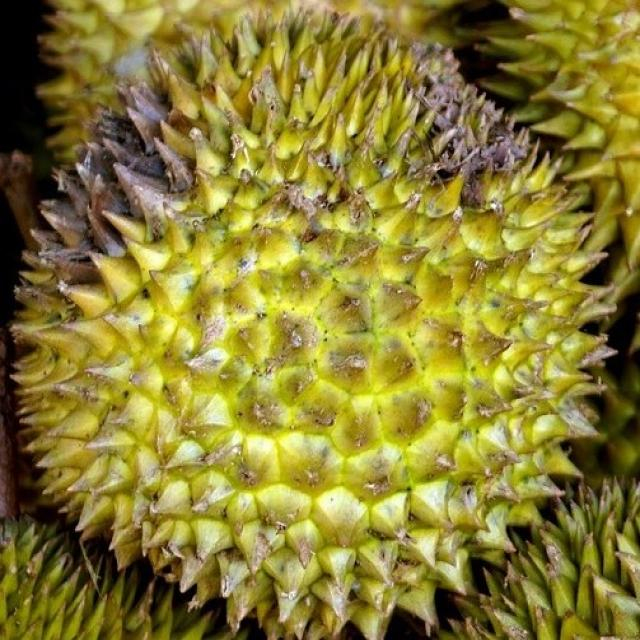defective: (0, 13, 609, 636)
